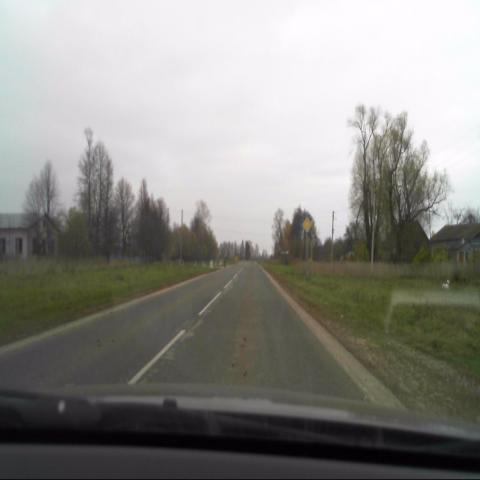2_1: (302, 216, 312, 235)
